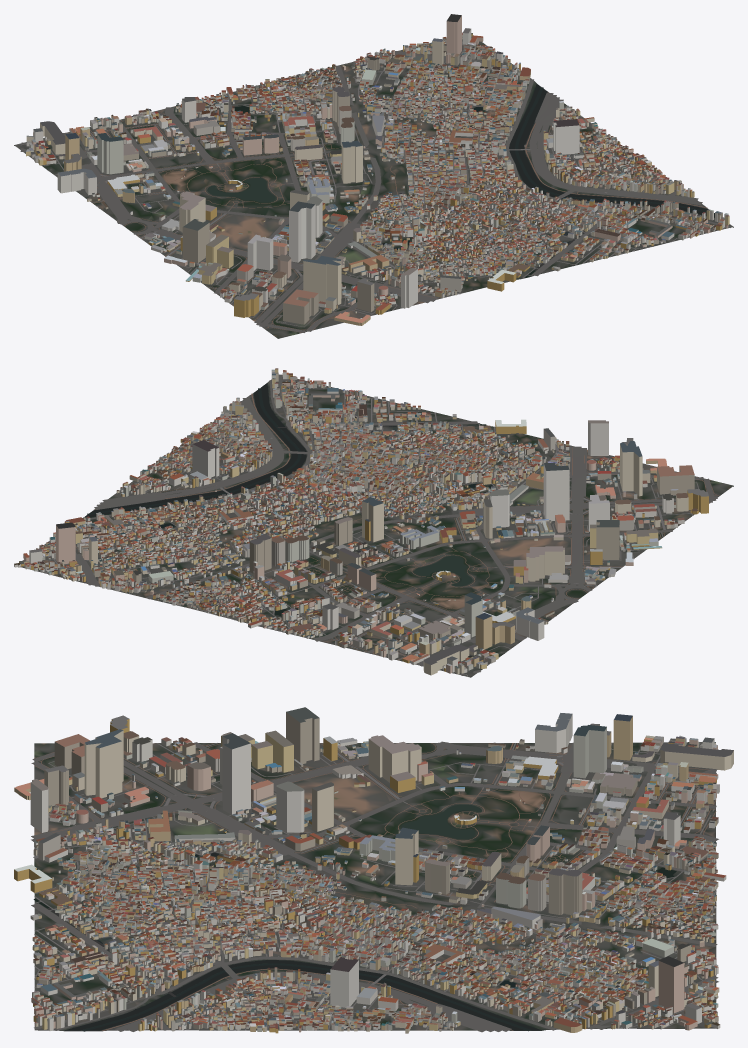
3 views of the same model, one above another, from view 1: azimuth 30°, elevation 25°; view 2: azimuth 150°, elevation 25°; view 3: azimuth 270°, elevation 25° (orthographic). The views are drawn at different scales.
Parts seen in each view (by area): view 1: buildings, ground, roads, water; view 2: buildings, ground, roads, water; view 3: buildings, ground, roads, water.
Part boxes in pixels (<box>): buildings: <box>26,14,729,325</box>; ground: <box>14,36,733,338</box>; roads: <box>17,41,731,332</box>; water: <box>50,84,714,277</box>; buildings: <box>14,368,708,675</box>; ground: <box>20,377,733,677</box>; roads: <box>28,374,719,676</box>; water: <box>85,383,502,652</box>; buildings: <box>14,707,733,1033</box>; ground: <box>34,742,716,1031</box>; roads: <box>31,741,718,1032</box>; water: <box>33,804,676,1031</box>.
Bounding box in the file's own units: 1456 × 153 × 1480.
